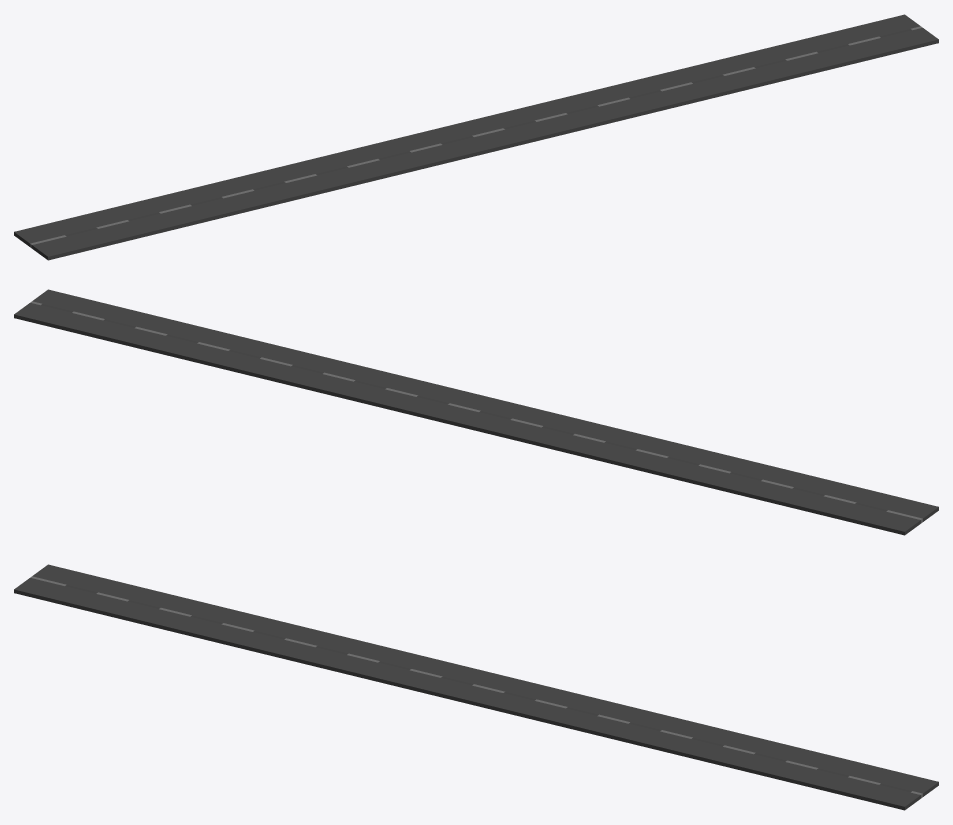
The model's file is CrossyRoadRoad.vox-0.obj.
3 views of the same model, one above another, from view 1: azimuth 30°, elevation 25°; view 2: azimuth 150°, elevation 25°; view 3: azimuth 330°, elevation 25° (orthographic).
Size of the model in its own units: 25.6 by 0.1 by 1.7.
1 material, 1 textured.
